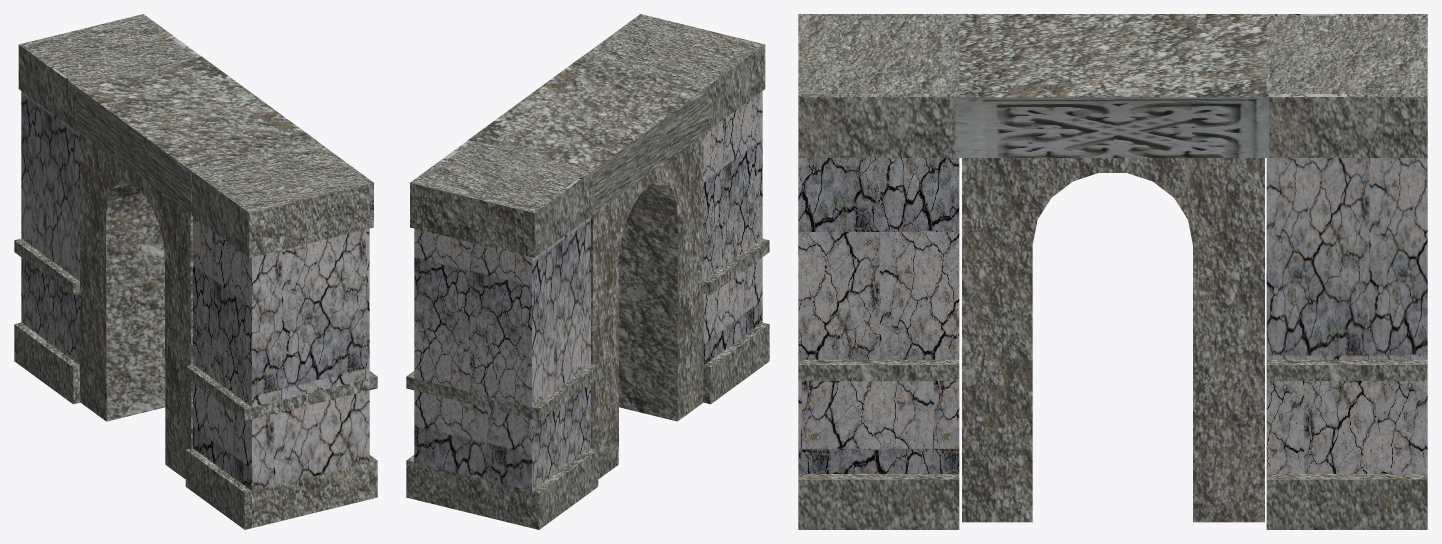
Rendered from Hittites_wall_entrance_semidemolished.fbx.
3 views of the same model, side by side, from view 1: azimuth 30°, elevation 25°; view 2: azimuth 150°, elevation 25°; view 3: azimuth 270°, elevation 25° (orthographic). The views are drawn at different scales.
Visible parts, largest first — view 1: Cube.002, Circle, Cube.000, Cube.003; view 2: Cube.000, Circle, Cube.002, Cube.003; view 3: Cube.000, Cube.002, Circle, Cube.003.
Part boxes in pixels (left/top/right/bottom): Cube.002: left=185, top=139, right=377, bottom=529; Circle: left=80, top=134, right=192, bottom=479; Cube.000: left=14, top=14, right=201, bottom=404; Cube.003: left=76, top=57, right=316, bottom=215; Cube.000: left=406, top=139, right=598, bottom=529; Circle: left=591, top=134, right=703, bottom=479; Cube.002: left=582, top=14, right=769, bottom=404; Cube.003: left=468, top=57, right=707, bottom=214; Cube.000: left=1266, top=14, right=1427, bottom=529; Cube.002: left=798, top=14, right=959, bottom=529; Circle: left=962, top=158, right=1264, bottom=522; Cube.003: left=955, top=14, right=1269, bottom=157.
Bounding box in the file's own units: 260 × 590 × 781.
4 materials, 4 textured.
